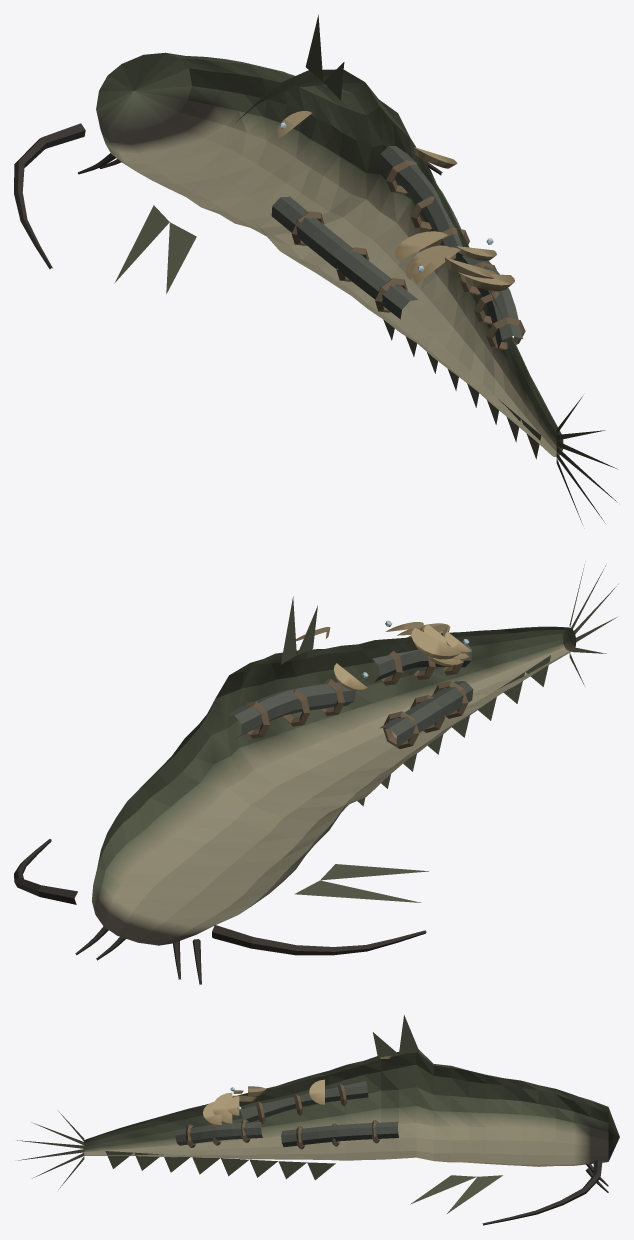
Rendered from flussvater.glb.
3 views of the same model, one above another, from view 1: azimuth 30°, elevation 25°; view 2: azimuth 150°, elevation 25°; view 3: azimuth 270°, elevation 25° (orthographic). The views are drawn at different scales.
Visible parts, largest first — view 1: flussvater; view 2: flussvater; view 3: flussvater.
Part boxes in pixels (left/top/right/bottom): flussvater: left=14, top=14, right=617, bottom=524; flussvater: left=14, top=564, right=618, bottom=984; flussvater: left=17, top=1015, right=619, bottom=1225.
Bounding box in the file's own units: 0.7258 × 0.5312 × 1.59.
